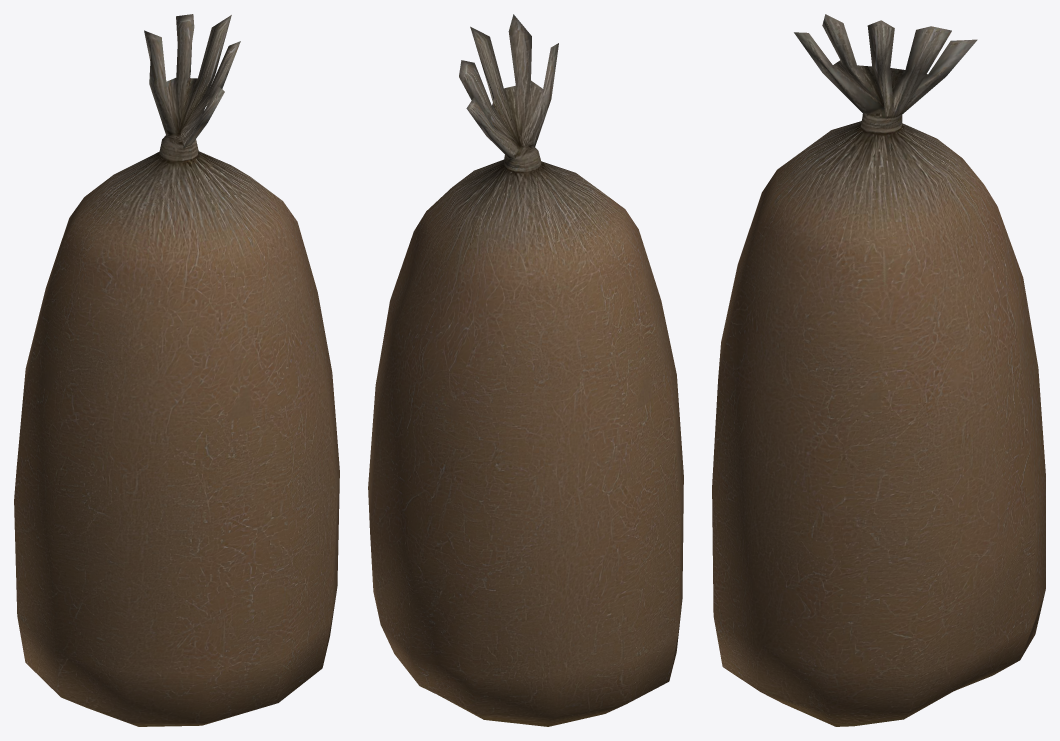
Rendered from Bread.fbx.
The picture shows the model from 3 angles, left to right: view 1: azimuth 30°, elevation 25°; view 2: azimuth 150°, elevation 25°; view 3: azimuth 270°, elevation 25°; orthographic projection. The views are drawn at different scales.
Visible parts, largest first — view 1: tripo_node_2bc81c8f-4e09-46b7-897a-e7de596b8f75; view 2: tripo_node_2bc81c8f-4e09-46b7-897a-e7de596b8f75; view 3: tripo_node_2bc81c8f-4e09-46b7-897a-e7de596b8f75.
Part boxes in pixels (x1,y1,x2,y2): tripo_node_2bc81c8f-4e09-46b7-897a-e7de596b8f75: [14, 14, 339, 726]; tripo_node_2bc81c8f-4e09-46b7-897a-e7de596b8f75: [368, 14, 683, 726]; tripo_node_2bc81c8f-4e09-46b7-897a-e7de596b8f75: [712, 14, 1045, 726].
Size of the model in its own units: 43.95 by 99.8 by 43.16.
Materials: 1 (1 with a texture image).
